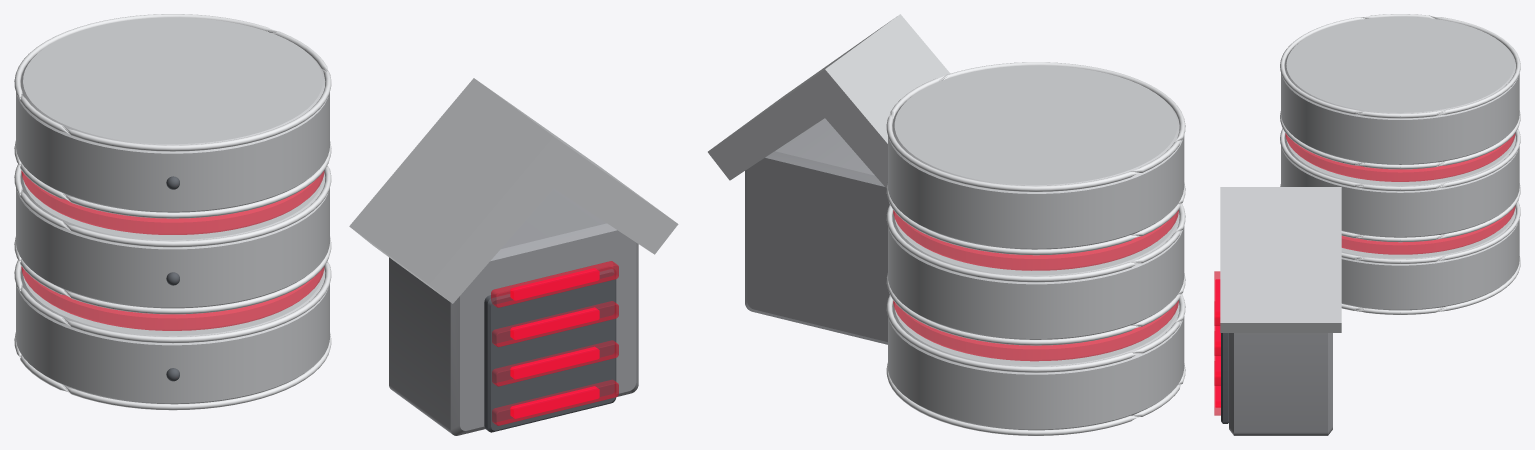
File: 33-warehouse.glb
3 renders of one model, left to right at view 1: azimuth 30°, elevation 25°; view 2: azimuth 150°, elevation 25°; view 3: azimuth 270°, elevation 25°, orthographic. The views are drawn at different scales.
Visible parts, largest first — view 1: BC satin iron, BC brushed iron, BC ruby optical glass, BC polished iron bevel, BC recessed iron, BC internal ruby light; view 2: BC satin iron, BC brushed iron, BC polished iron bevel, BC ruby optical glass; view 3: BC satin iron, BC brushed iron, BC polished iron bevel, BC ruby optical glass, BC internal ruby light, BC recessed iron.
Boxes of the visible parts, <box> form: BC satin iron: <box>16,17,678,404</box>; BC brushed iron: <box>389,188,638,435</box>; BC ruby optical glass: <box>21,170,618,425</box>; BC polished iron bevel: <box>14,14,331,410</box>; BC recessed iron: <box>166,176,616,432</box>; BC internal ruby light: <box>510,268,599,418</box>; BC satin iron: <box>708,14,1184,430</box>; BC brushed iron: <box>745,118,889,344</box>; BC polished iron bevel: <box>886,62,1185,435</box>; BC ruby optical glass: <box>893,210,1178,361</box>; BC satin iron: <box>1220,16,1519,332</box>; BC brushed iron: <box>1229,333,1332,435</box>; BC polished iron bevel: <box>1280,14,1520,314</box>; BC ruby optical glass: <box>1214,133,1515,415</box>; BC internal ruby light: <box>1215,279,1220,407</box>; BC recessed iron: <box>1221,333,1228,423</box>.
Bounding box in the file's own units: 2.12 × 1.23 × 1.41.
